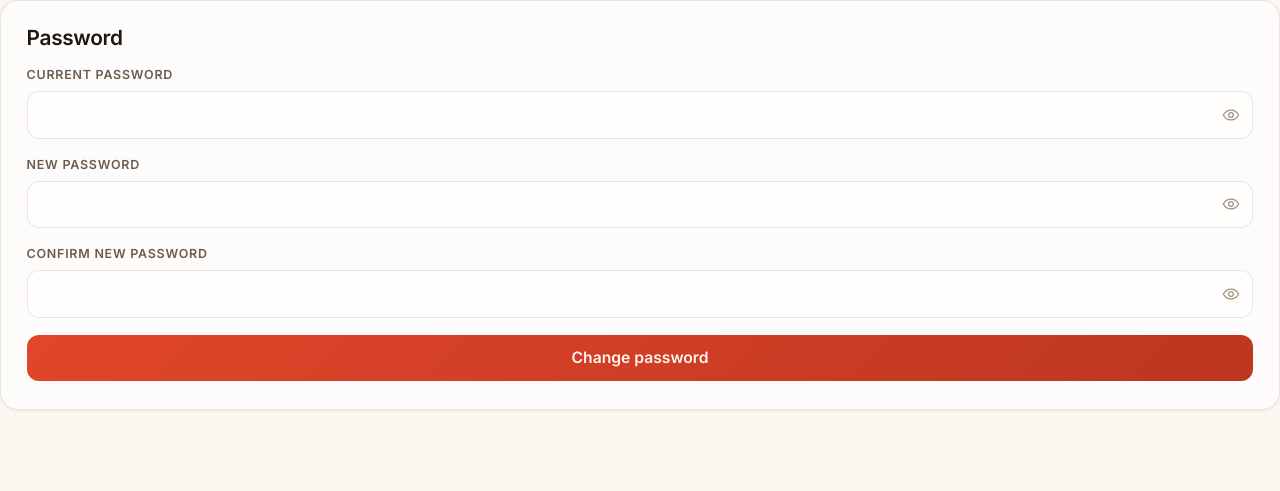
Test: SecurityPanel › refuses to submit when the confirmation does not match
Type "oldpassword1" into the password field labelled "Current password" at {"x": 640, "y": 115}, box [27, 91, 1253, 139]
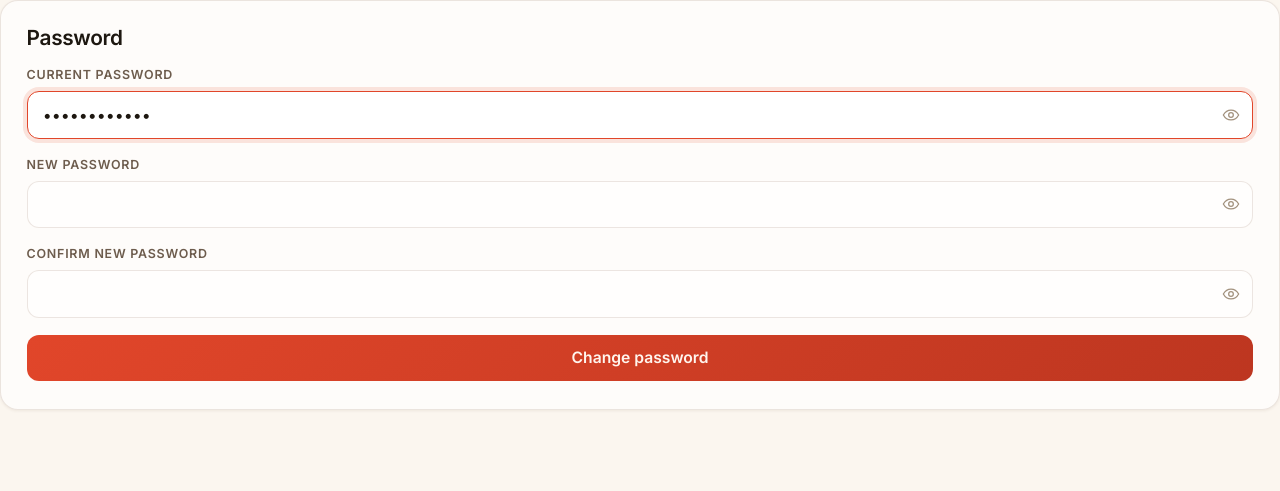
Type "newpassword1" into the password field labelled "New password" at {"x": 640, "y": 204}, box [27, 181, 1253, 228]
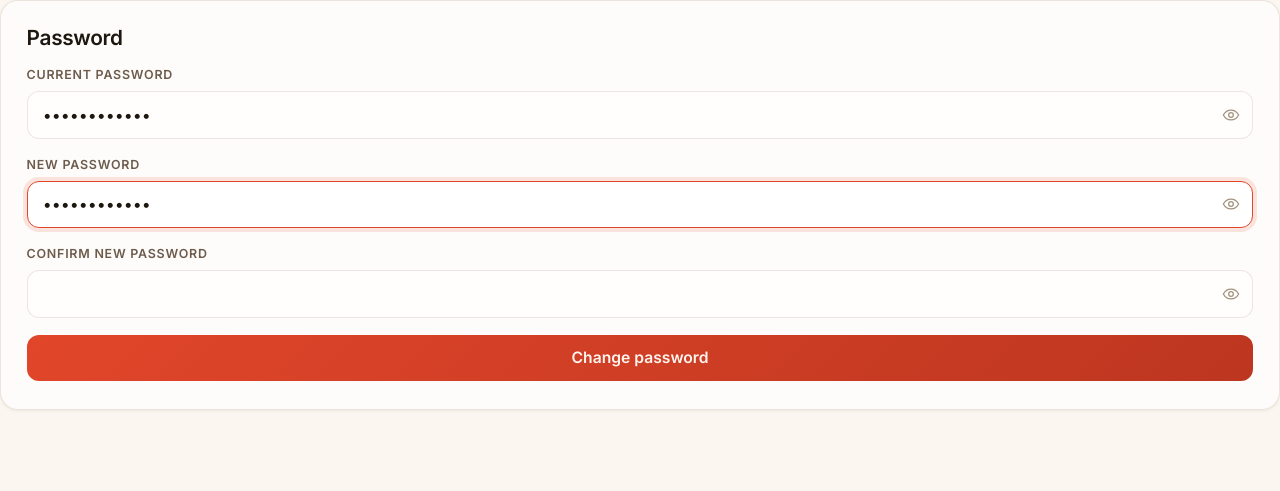
Type "newpassword2" into the password field labelled "Confirm new password" at {"x": 640, "y": 294}, box [27, 270, 1253, 318]
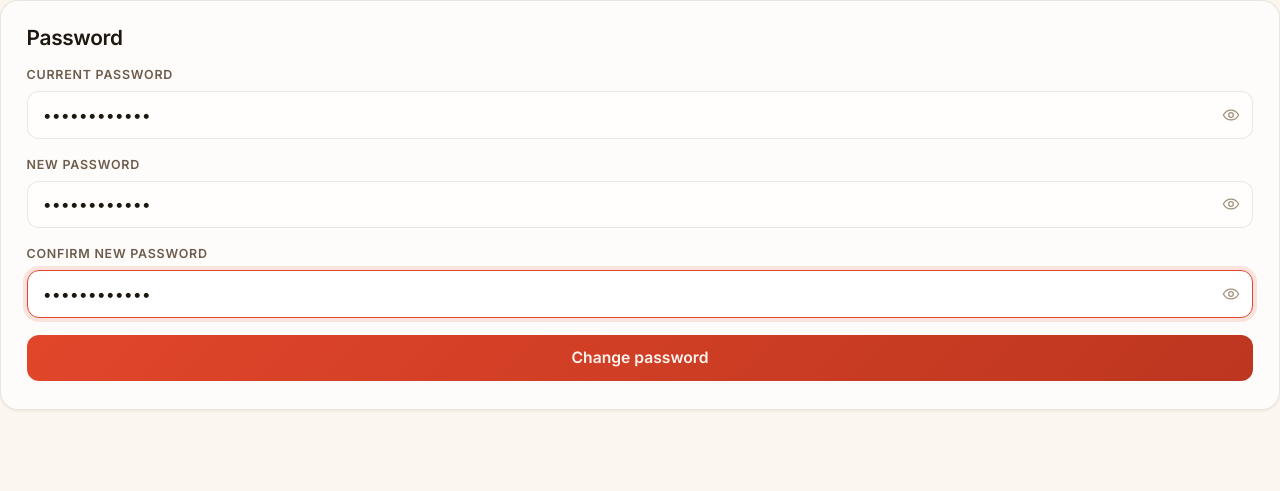
Click the button "Change password" at {"x": 640, "y": 358}, box [27, 334, 1253, 381]
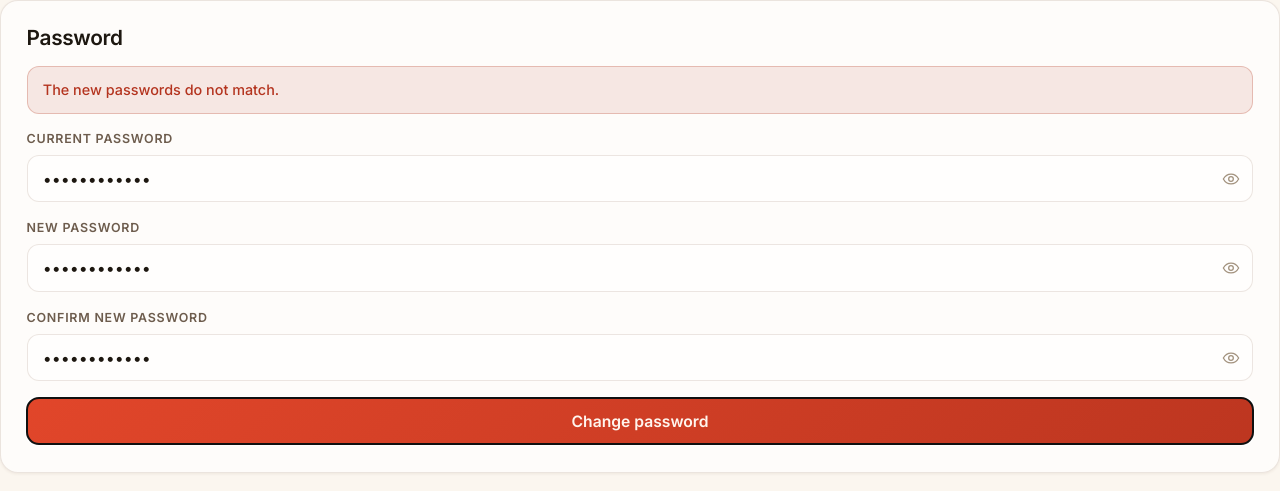
Check: the text "The new passwords do not match." is shown, box [27, 66, 1253, 114]
